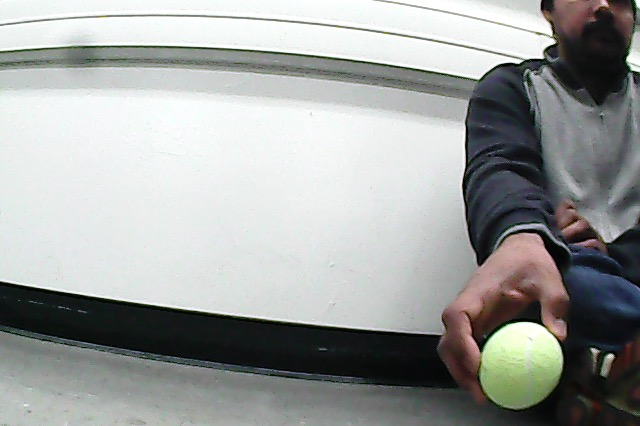ball: (479, 320, 567, 411)
